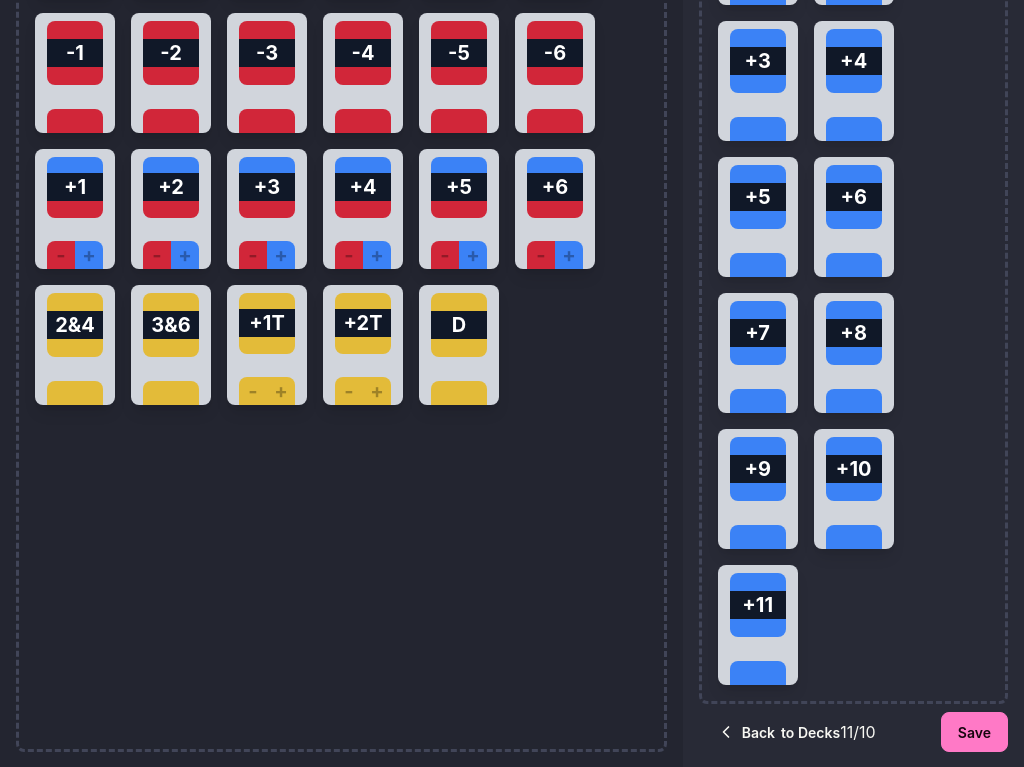
Test case: DeckBuilder › rejects adding more than 10 cards total
(page scrolled)
Click the button "Save" at point(974, 732), box [941,712,1008,752]
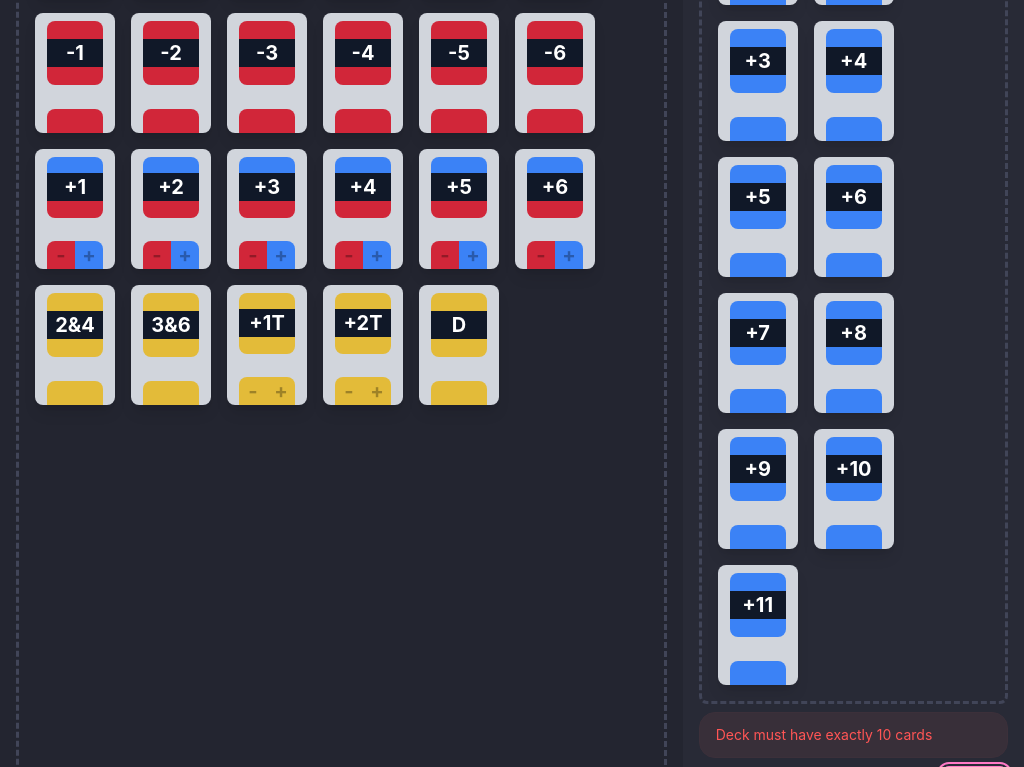
Expected: the text "Deck must have exactly 10 cards" is shown, [716,725,932,745]
